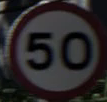Speed limit: (8, 6, 96, 90)
